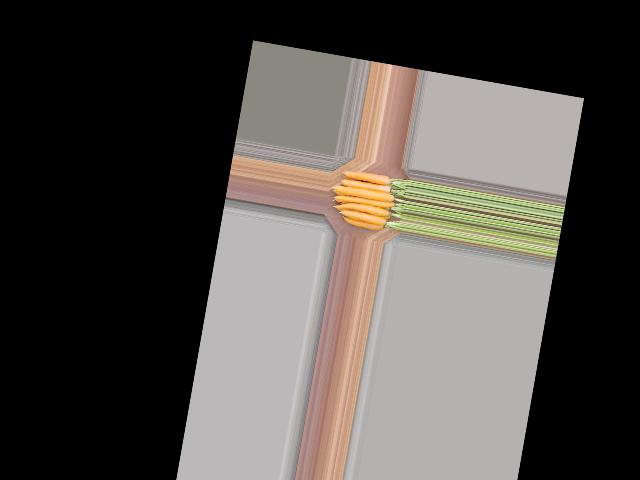carrot: (335, 214, 385, 234)
